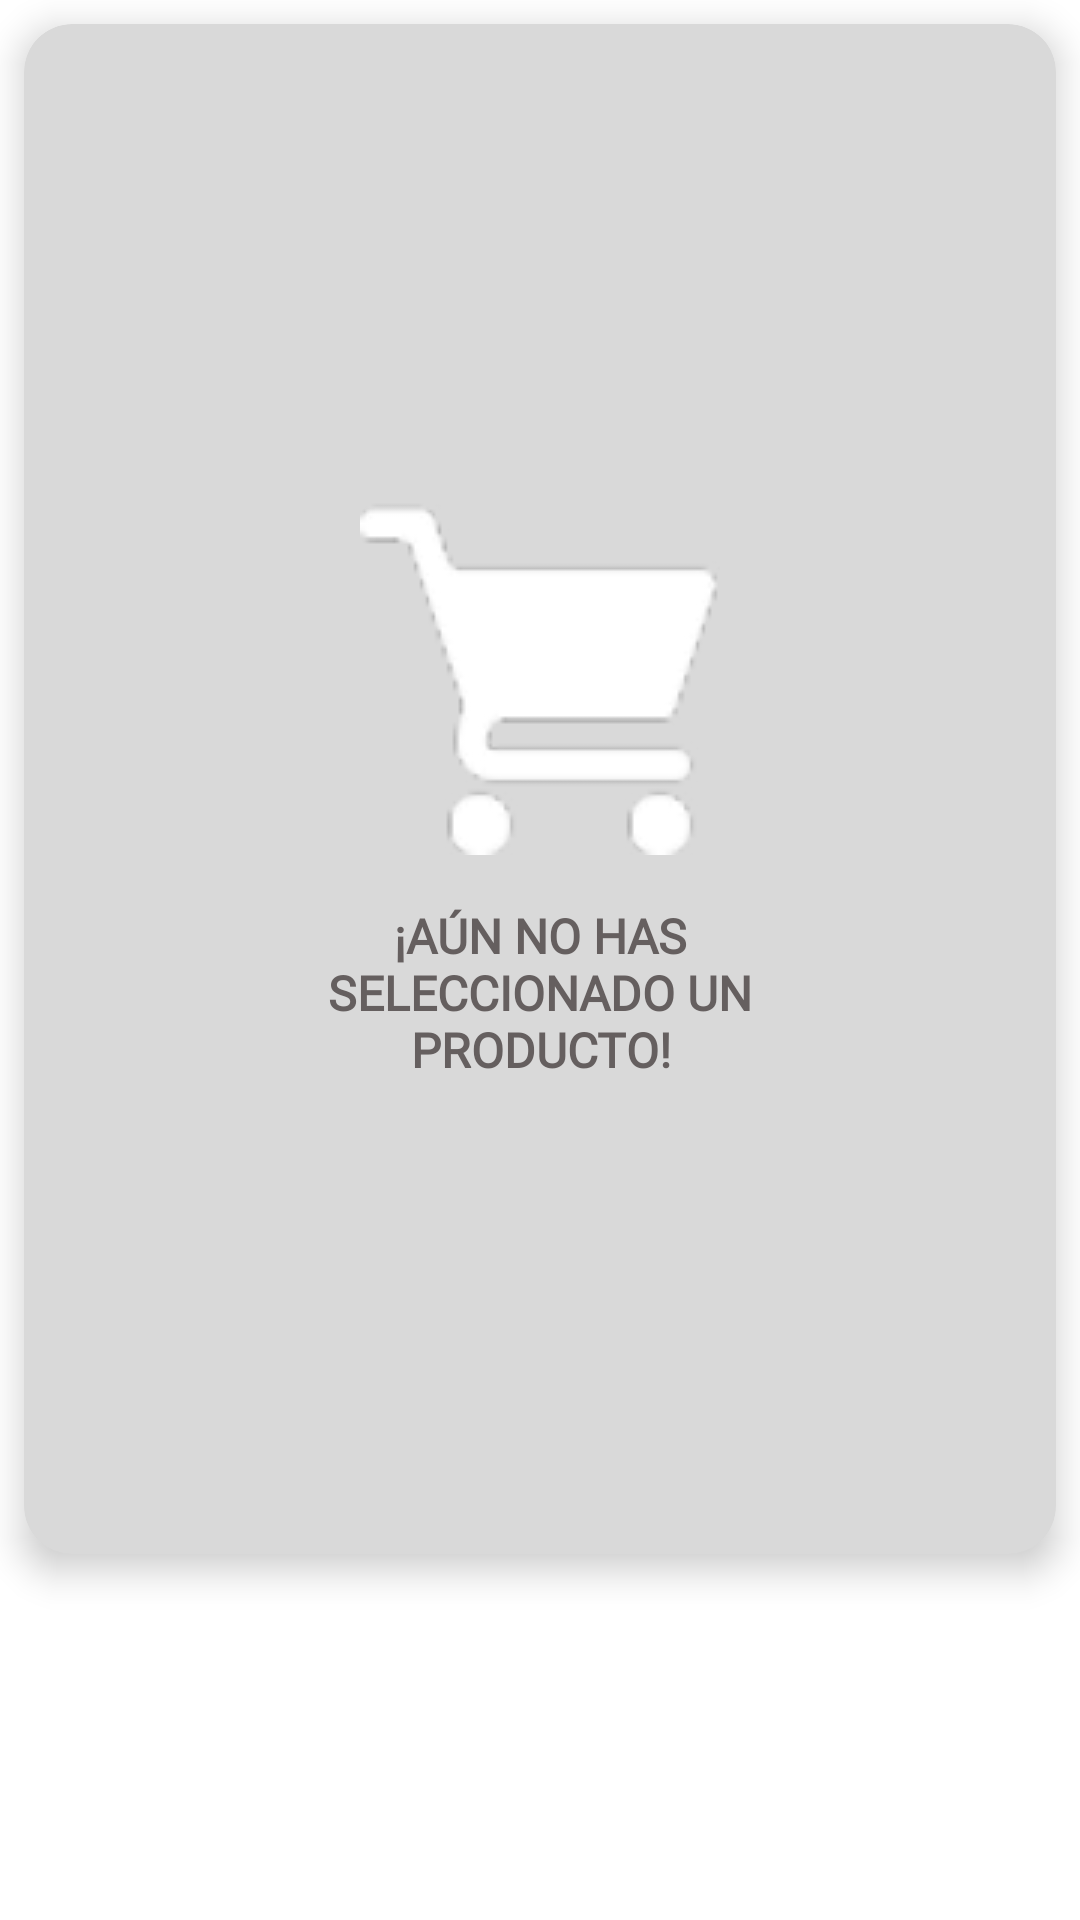

Screen size 1080px x 1920px. Icon name, then its box in pixels as (x1, y1, x2, y2):
Carrito vacío: (360, 511, 716, 855)
